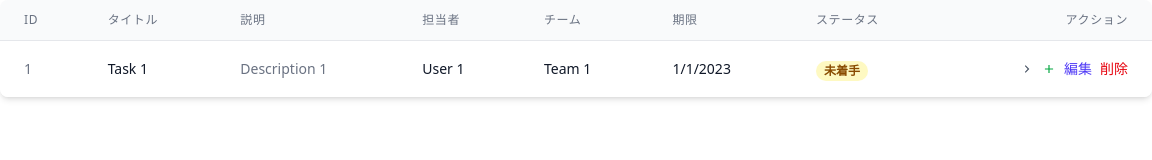
it: TaskList Component › should enter edit mode when edit button is clicked
Expected: the text "Task 1" is shown, top-left (108, 59), bottom-right (148, 78)
Click edit button
Click the button "編集". click: (1078, 69)
box: top-left (1064, 59), bottom-right (1092, 79)
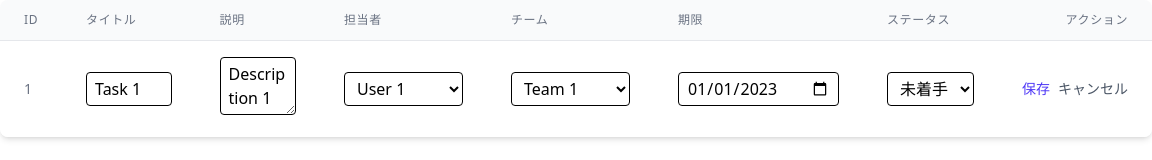
Expected: the button "保存" is shown, top-left (1022, 79), bottom-right (1050, 99)
Expected: the button "キャンセル" is shown, top-left (1058, 79), bottom-right (1128, 99)
Expected: the field showing "Task 1" is shown, top-left (86, 72), bottom-right (172, 106)
